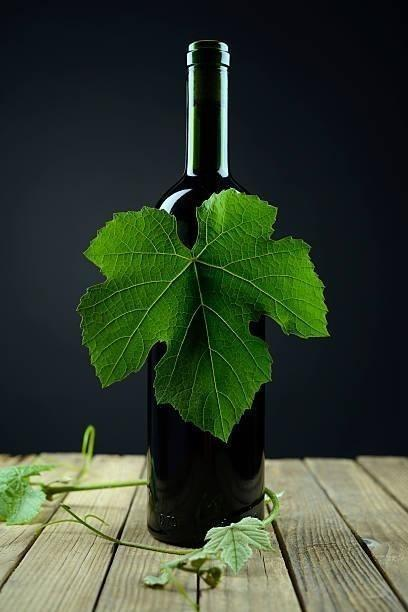bottle-glass: (139, 35, 274, 548)
